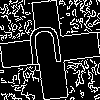U: (25, 25, 66, 75)
